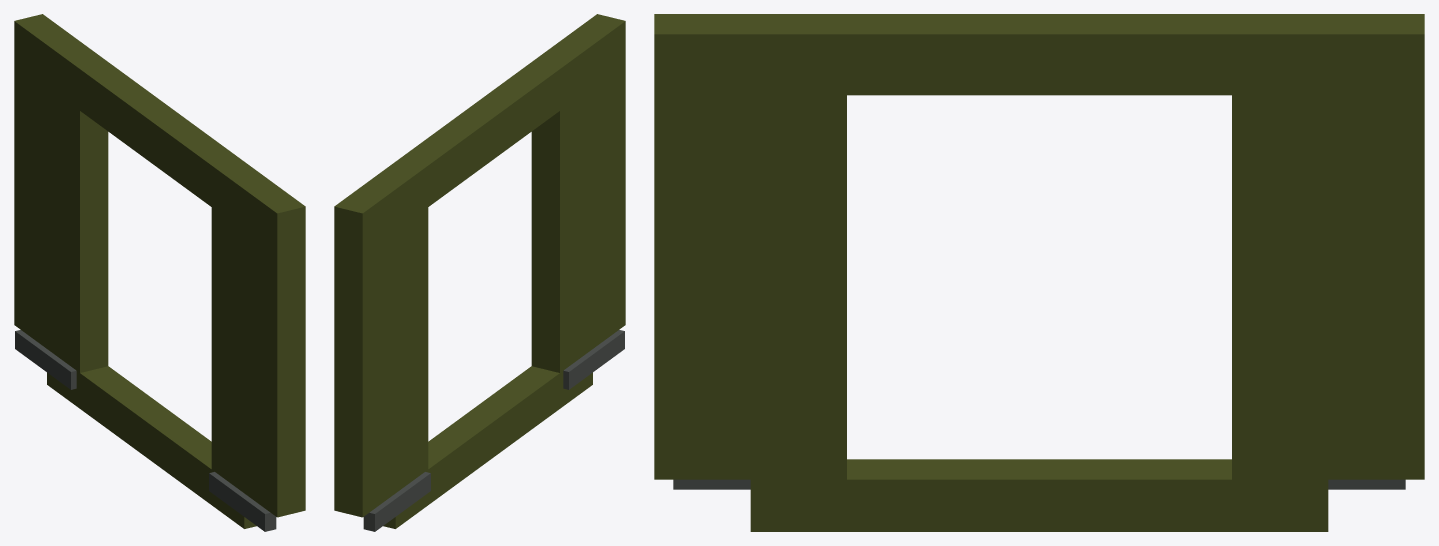
Rendered from apc_hull_rear.glb.
The picture shows the model from 3 angles, left to right: view 1: azimuth 30°, elevation 25°; view 2: azimuth 150°, elevation 25°; view 3: azimuth 270°, elevation 25°; orthographic projection. The views are drawn at different scales.
Parts seen in each view (by area): view 1: body:compound; view 2: body:compound; view 3: body:compound.
Boxes of the visible parts, x1=… form: body:compound: x1=14, y1=14, x2=305, y2=531; body:compound: x1=334, y1=14, x2=625, y2=531; body:compound: x1=654, y1=14, x2=1424, y2=531.
Size of the model in its own units: 0.1875 by 1.78 by 2.5.
